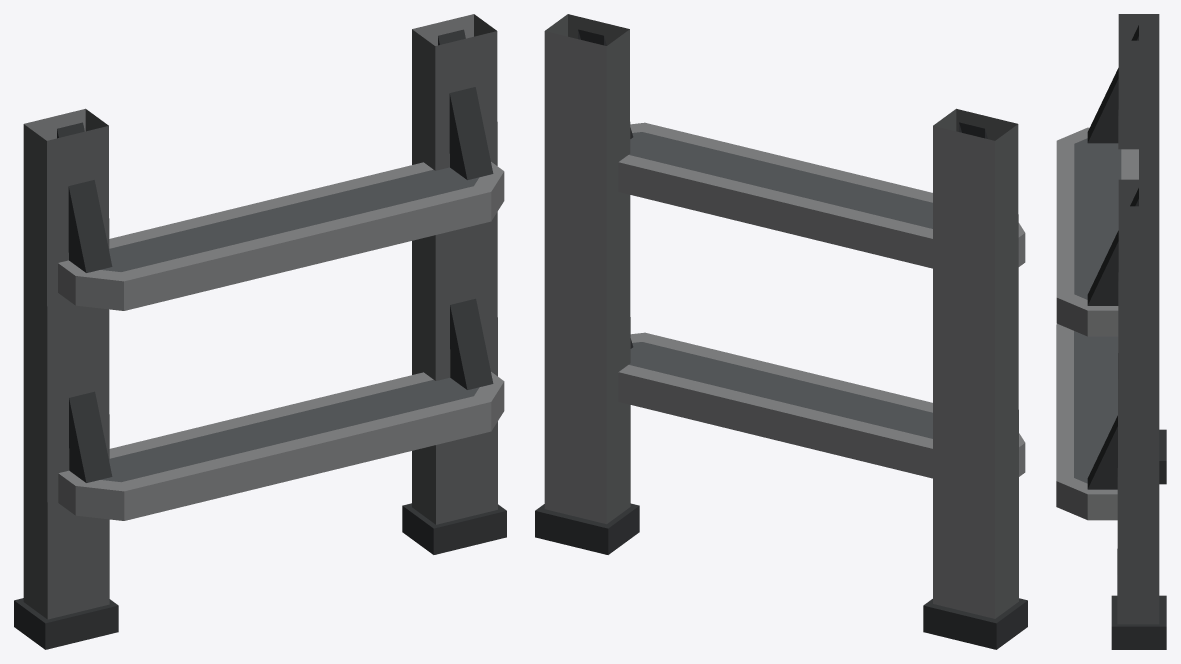
The model's file is Ladder_short_002.glb.
3 renders of one model, left to right at view 1: azimuth 30°, elevation 25°; view 2: azimuth 150°, elevation 25°; view 3: azimuth 270°, elevation 25°, orthographic. The views are drawn at different scales.
Parts seen in each view (by area): view 1: Ladder_short_002; view 2: Ladder_short_002; view 3: Ladder_short_002.
Part boxes in pixels (left/top/right/bottom): Ladder_short_002: left=14, top=14, right=506, bottom=649; Ladder_short_002: left=535, top=14, right=1027, bottom=649; Ladder_short_002: left=1056, top=14, right=1166, bottom=649.
Size of the model in its own units: 1.19 by 1.24 by 0.281.
1 material, 1 textured.
